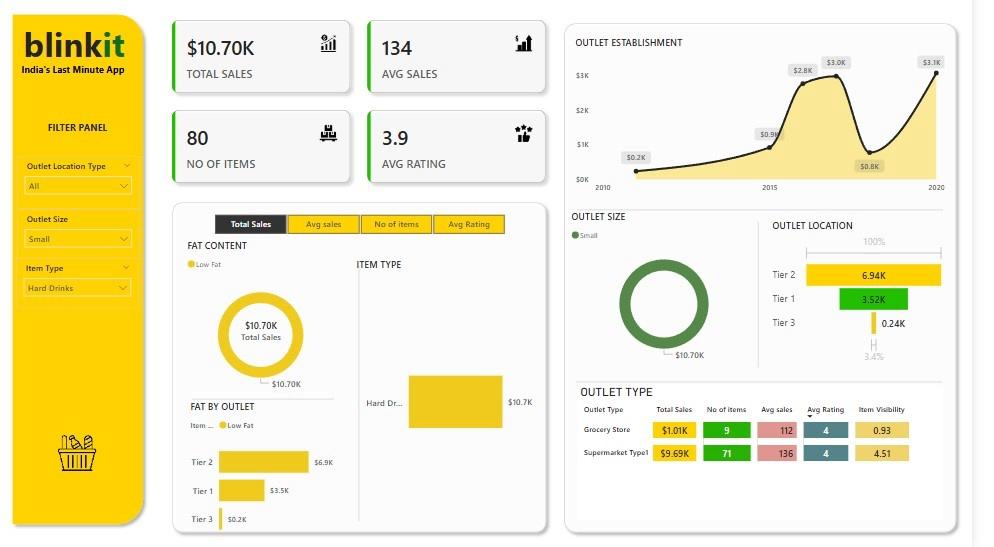

What the dashboard file says about the page in this screenshot:
{"tool":"powerbi","page":{"name":"Page 1","canvas":[1400,800],"ordinal":0},"visuals":[{"type":"shape","box":[14.7,25.7,205.8,749.6],"z":0},{"type":"textbox","box":[31.2,101,170.9,34.9],"z":1000},{"type":"textbox","box":[34.9,38.6,165.4,80.8],"z":2000},{"type":"cardVisual","fields":{"Data":["BlinkIT Grocery Data.Total Sales","BlinkIT Grocery Data.Avg sales","BlinkIT Grocery Data.No of items","BlinkIT Grocery Data.Avg Rating"]},"box":[234.6,25.9,570.7,269.7],"z":3000},{"type":"shape","box":[243.8,295.5,554.1,491.3],"z":4000},{"type":"slicer","fields":{"Values":["Metrics.Metrics"]},"box":[288.1,315.8,465.4,40.6],"z":5000},{"type":"donutChart","title":"FAT CONTENT","fields":{"Y":["BlinkIT Grocery Data.Total Sales"],"Category":["BlinkIT Grocery Data.Item Fat Content"]},"box":[269.7,356.5,219.8,230.9],"z":6000},{"type":"cardVisual","fields":{"Data":["BlinkIT Grocery Data.Total Sales"]},"box":[314,435.9,133,105.3],"z":7000},{"type":"clusteredBarChart","title":"FAT BY OUTLET","fields":{"Y":["BlinkIT Grocery Data.Total Sales"],"Series":["BlinkIT Grocery Data.Item Fat Content"],"Category":["BlinkIT Grocery Data.Outlet Location Type"]},"box":[273.4,587.3,216.1,208.7],"z":8000},{"type":"shape","box":[280.7,567,203.2,40.6],"z":9000},{"type":"shape","box":[419.3,395.3,203.2,365.7],"z":10000},{"type":"barChart","title":"ITEM TYPE","fields":{"Y":["BlinkIT Grocery Data.Total Sales"],"Category":["BlinkIT Grocery Data.Item Type"]},"box":[511.6,384.2,269.7,391.6],"z":11000},{"type":"shape","box":[805.3,38.8,579.9,748],"z":12000},{"type":"lineChart","title":"OUTLET ESTABLISHMENT","fields":{"Category":["BlinkIT Grocery Data.Outlet Establishment Year"],"Y":["BlinkIT Grocery Data.Total Sales"]},"box":[825.6,66.5,539.3,234.6],"z":13000},{"type":"shape","box":[833,280.7,524.5,68.3],"z":14000},{"type":"donutChart","title":"OUTLET SIZE","fields":{"Y":["BlinkIT Grocery Data.Total Sales"],"Category":["BlinkIT Grocery Data.Outlet Size"]},"box":[820.1,315.8,275.2,225.3],"z":15000},{"type":"shape","box":[1078.6,332.5,29.6,208.7],"z":16000},{"type":"funnel","title":"OUTLET LOCATION","fields":{"Category":["BlinkIT Grocery Data.Outlet Location Type"],"Y":["Sum(BlinkIT Grocery Data.Sales)"]},"box":[1108.2,328.8,256.7,212.4],"z":17000},{"type":"shape","box":[831.1,546.7,524.5,31.4],"z":18000},{"type":"pivotTable","title":"OUTLET TYPE","fields":{"Rows":["BlinkIT Grocery Data.Outlet Type"],"Values":["BlinkIT Grocery Data.Total Sales","BlinkIT Grocery Data.No of items","BlinkIT Grocery Data.Avg sales","BlinkIT Grocery Data.Avg Rating","Sum(BlinkIT Grocery Data.Item Visibility)"]},"box":[833,567,524.5,193.9],"z":19000},{"type":"slicer","fields":{"Values":["BlinkIT Grocery Data.Outlet Size"]},"box":[29.9,313.4,176.4,70.9],"z":20000},{"type":"slicer","fields":{"Values":["BlinkIT Grocery Data.Item Type"]},"box":[28.3,384.3,176.4,72.4],"z":21000},{"type":"slicer","fields":{"Values":["BlinkIT Grocery Data.Outlet Location Type"]},"box":[29.9,237.8,176.4,75.6],"z":22000},{"type":"textbox","box":[60.2,183.5,113.3,34.4],"z":23000},{"type":"image","box":[70.9,623.6,92.9,80.3],"z":24000}]}

Visuals, with their boxes on the page's 1400x800 design canvas (x1, y1, x2, y2). These are canvas units, not pixel positions in the 994x547 screenshot, which may show the page scaled, cropped or inside an application window:
shape: <box>15,26,220,775</box>
textbox: <box>31,101,202,136</box>
textbox: <box>35,39,200,119</box>
cardVisual - BlinkIT Grocery Data.Total Sales x BlinkIT Grocery Data.Avg sales: <box>235,26,805,296</box>
shape: <box>244,296,798,787</box>
slicer - Metrics.Metrics: <box>288,316,754,356</box>
"FAT CONTENT" donutChart: <box>270,356,490,587</box>
cardVisual - BlinkIT Grocery Data.Total Sales: <box>314,436,447,541</box>
"FAT BY OUTLET" clusteredBarChart: <box>273,587,490,796</box>
shape: <box>281,567,484,608</box>
shape: <box>419,395,622,761</box>
"ITEM TYPE" barChart: <box>512,384,781,776</box>
shape: <box>805,39,1385,787</box>
"OUTLET ESTABLISHMENT" lineChart: <box>826,66,1365,301</box>
shape: <box>833,281,1358,349</box>
"OUTLET SIZE" donutChart: <box>820,316,1095,541</box>
shape: <box>1079,332,1108,541</box>
"OUTLET LOCATION" funnel: <box>1108,329,1365,541</box>
shape: <box>831,547,1356,578</box>
"OUTLET TYPE" pivotTable: <box>833,567,1358,761</box>
slicer - BlinkIT Grocery Data.Outlet Size: <box>30,313,206,384</box>
slicer - BlinkIT Grocery Data.Item Type: <box>28,384,205,457</box>
slicer - BlinkIT Grocery Data.Outlet Location Type: <box>30,238,206,313</box>
textbox: <box>60,184,174,218</box>
image: <box>71,624,164,704</box>
